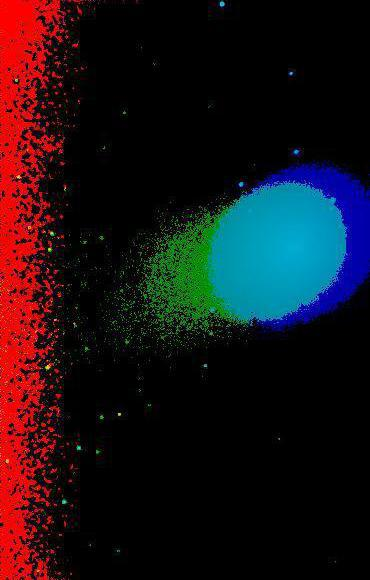star: (104, 398, 134, 428)
